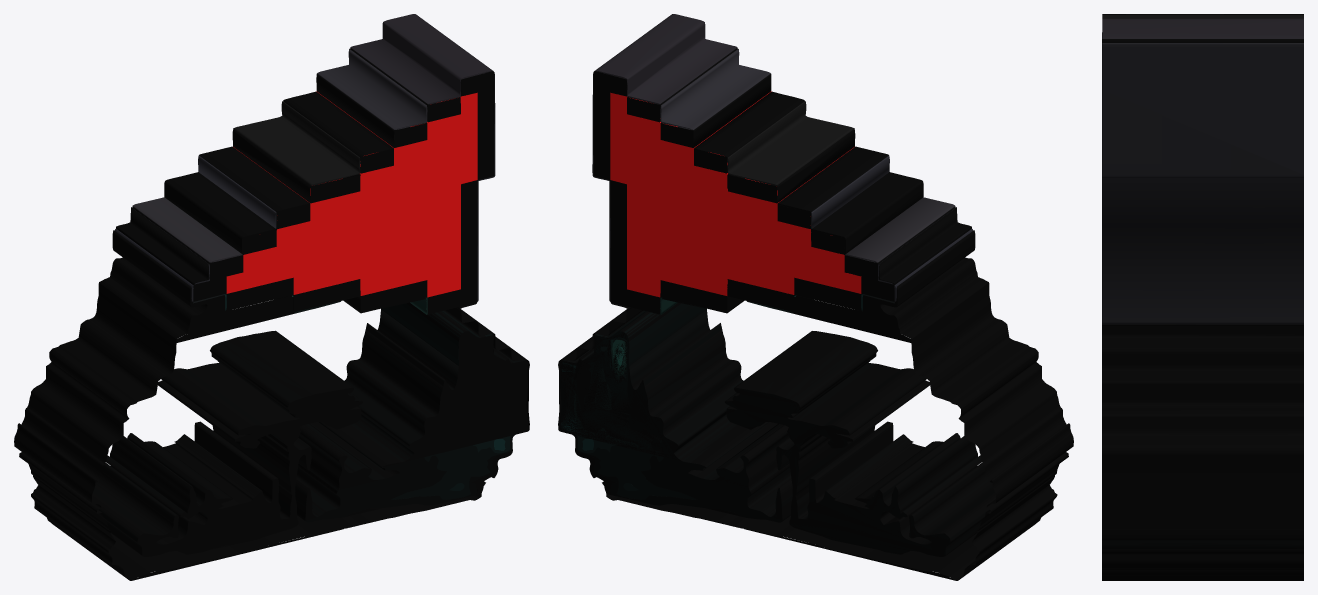
File: Toadz_6293.glb
3 views of the same model, side by side, from view 1: azimuth 30°, elevation 25°; view 2: azimuth 150°, elevation 25°; view 3: azimuth 270°, elevation 25° (orthographic). The views are drawn at different scales.
Visible parts, largest first — view 1: Curve; view 2: Curve; view 3: Curve.
Boxes of the visible parts, left/top/right/bottom form: Curve: left=14, top=14, right=529, bottom=580; Curve: left=558, top=14, right=1073, bottom=580; Curve: left=1102, top=14, right=1303, bottom=580.
Size of the model in its own units: 3.26 by 3.03 by 1.
